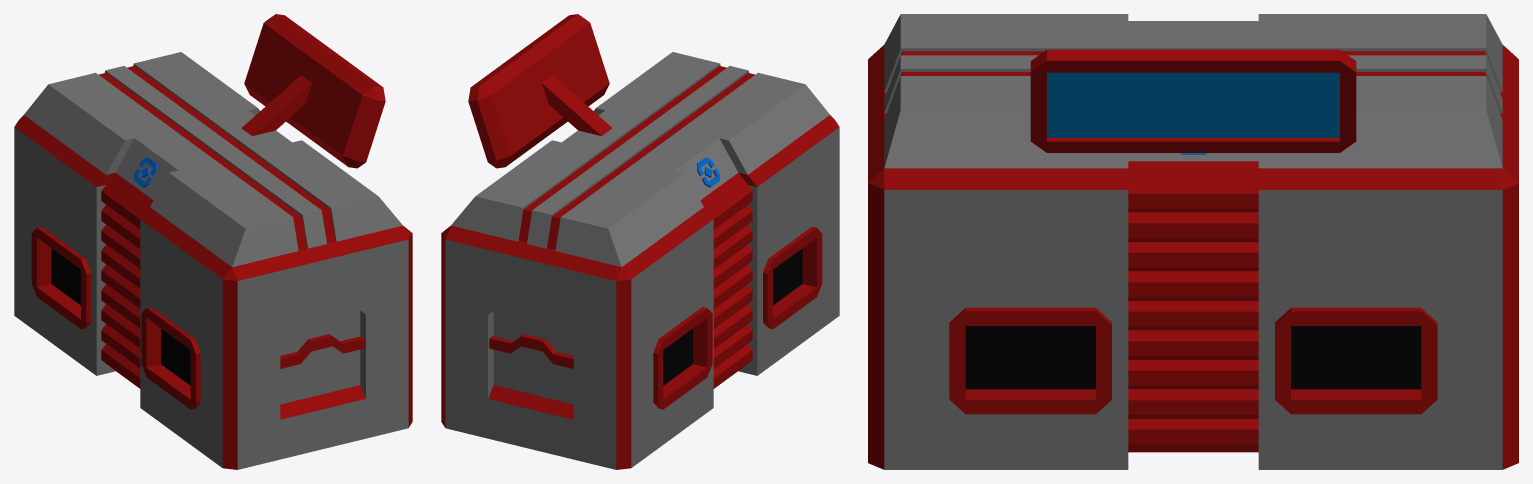
Rendered from Storage.obj.
3 renders of one model, left to right at view 1: azimuth 30°, elevation 25°; view 2: azimuth 150°, elevation 25°; view 3: azimuth 270°, elevation 25°, orthographic. The views are drawn at different scales.
Visible parts, largest first — view 1: StorageCase_Cube.001, Screen_Cube.017, Stripes_Cube.006, ConveyerAcc_Cube.019, ScreenHolder_Cube.018, Handles_Cube.008; view 2: StorageCase_Cube.001, Screen_Cube.017, Stripes_Cube.006, ConveyerAcc_Cube.019, ScreenHolder_Cube.018, Handles_Cube.008; view 3: StorageCase_Cube.001, Stripes_Cube.006, Screen_Cube.017, ConveyerAcc_Cube.019.
Part boxes in pixels (left/top/right/bottom): StorageCase_Cube.001: left=14, top=52, right=412, bottom=469; Screen_Cube.017: left=244, top=14, right=385, bottom=168; Stripes_Cube.006: left=101, top=185, right=144, bottom=388; ConveyerAcc_Cube.019: left=31, top=226, right=200, bottom=409; ScreenHolder_Cube.018: left=241, top=75, right=311, bottom=136; Handles_Cube.008: left=280, top=334, right=364, bottom=368; StorageCase_Cube.001: left=441, top=52, right=839, bottom=469; Screen_Cube.017: left=468, top=14, right=609, bottom=168; Stripes_Cube.006: left=709, top=185, right=752, bottom=388; ConveyerAcc_Cube.019: left=653, top=226, right=822, bottom=409; ScreenHolder_Cube.018: left=542, top=75, right=612, bottom=136; Handles_Cube.008: left=489, top=334, right=573, bottom=368; StorageCase_Cube.001: left=868, top=14, right=1518, bottom=469; Stripes_Cube.006: left=1128, top=183, right=1258, bottom=452; Screen_Cube.017: left=1030, top=49, right=1356, bottom=152; ConveyerAcc_Cube.019: left=949, top=307, right=1437, bottom=414.
Size of the model in its own units: 2.32 by 2.93 by 4.
